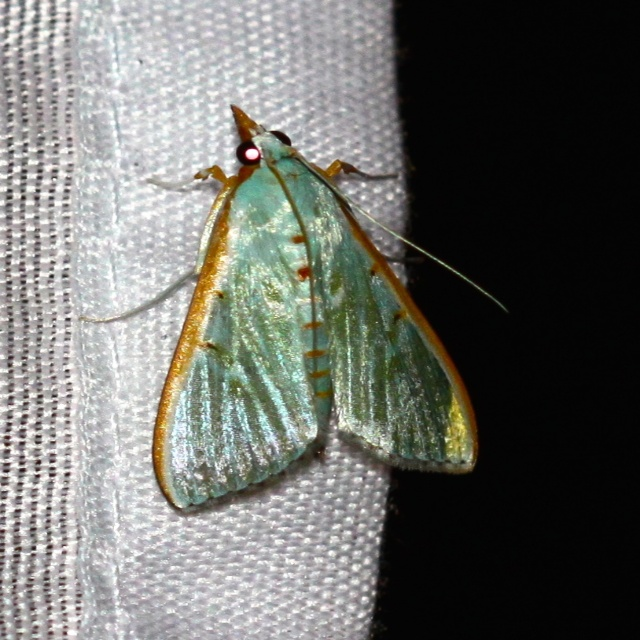Moths and butterflies: (75, 105, 511, 509)
